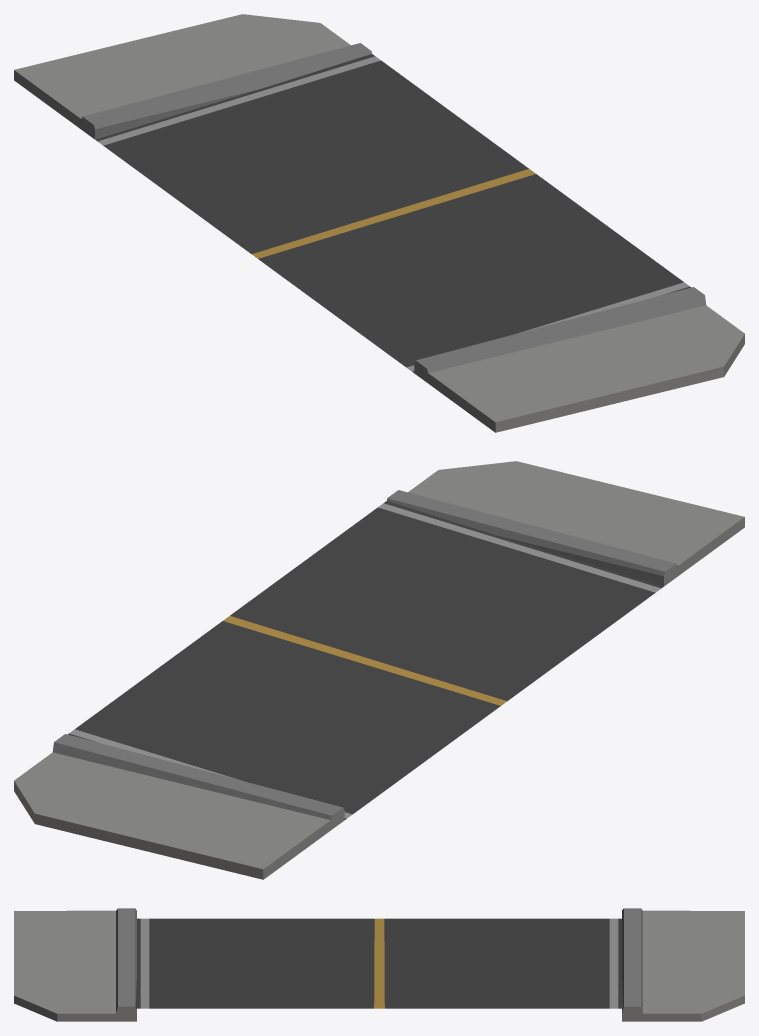
The model's file is SM_Envr_Road_Country_Merger.fbx.
3 views of the same model, one above another, from view 1: azimuth 30°, elevation 25°; view 2: azimuth 150°, elevation 25°; view 3: azimuth 270°, elevation 25° (orthographic). The views are drawn at different scales.
Visible parts, largest first — view 1: SM_Envr_Road_Country_Merger; view 2: SM_Envr_Road_Country_Merger; view 3: SM_Envr_Road_Country_Merger.
Boxes of the visible parts, bbox=[...] form: SM_Envr_Road_Country_Merger: bbox=[14, 14, 744, 432]; SM_Envr_Road_Country_Merger: bbox=[14, 461, 744, 879]; SM_Envr_Road_Country_Merger: bbox=[14, 908, 744, 1021].
Size of the model in its own units: 500 by 34 by 1500.
